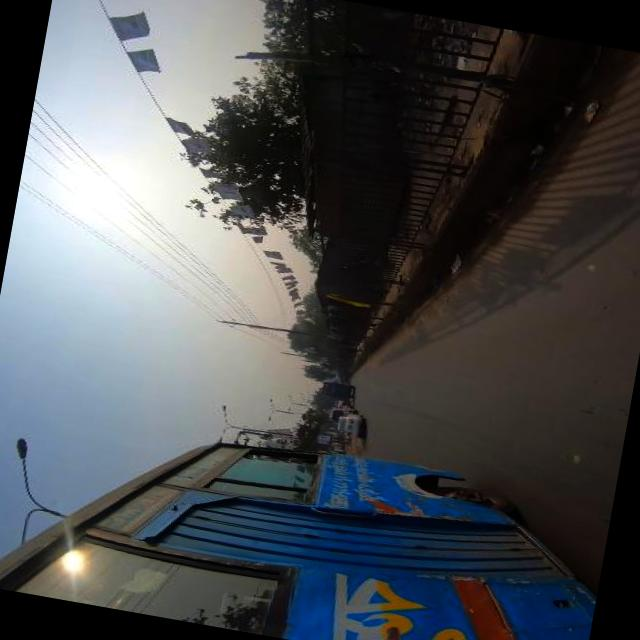bus: (0, 380, 613, 640), (318, 377, 358, 398)
car: (332, 409, 367, 438)
